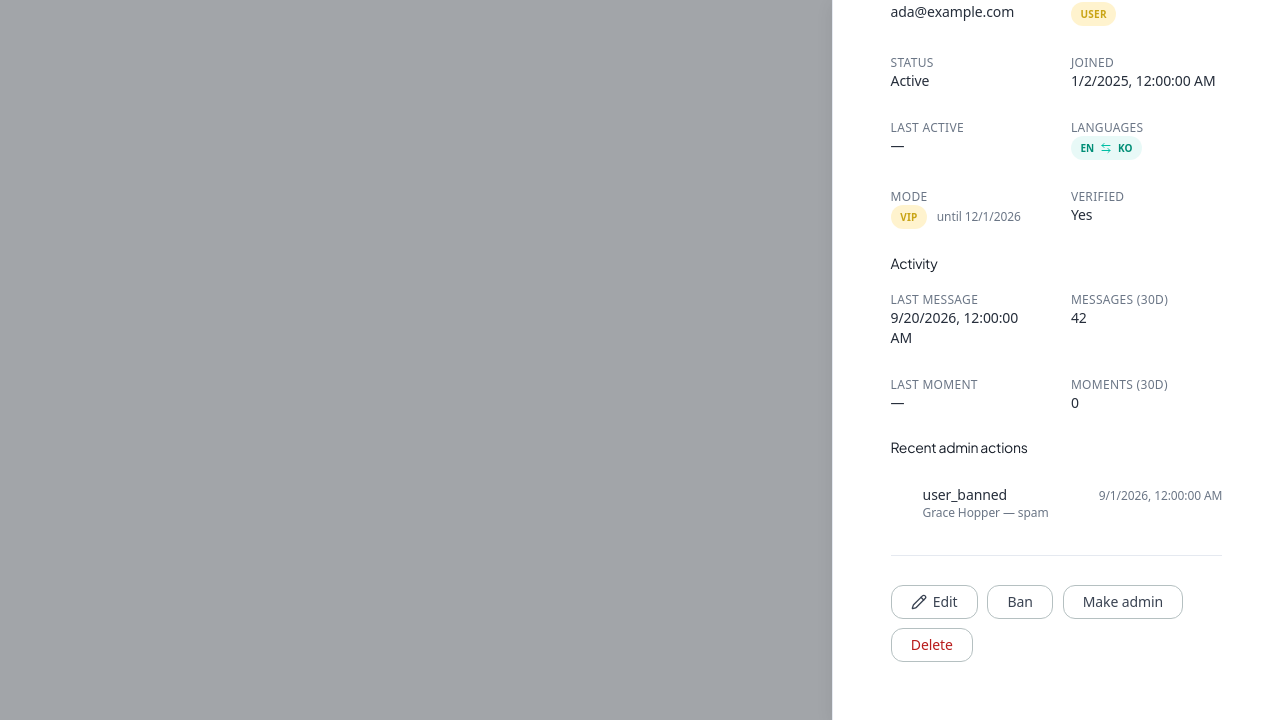
shows a failed mutation inside the dialog and keeps it open
(page scrolled)
Click the button with test id "drawer-role". click: (1123, 602)
box: [1062,585,1183,619]
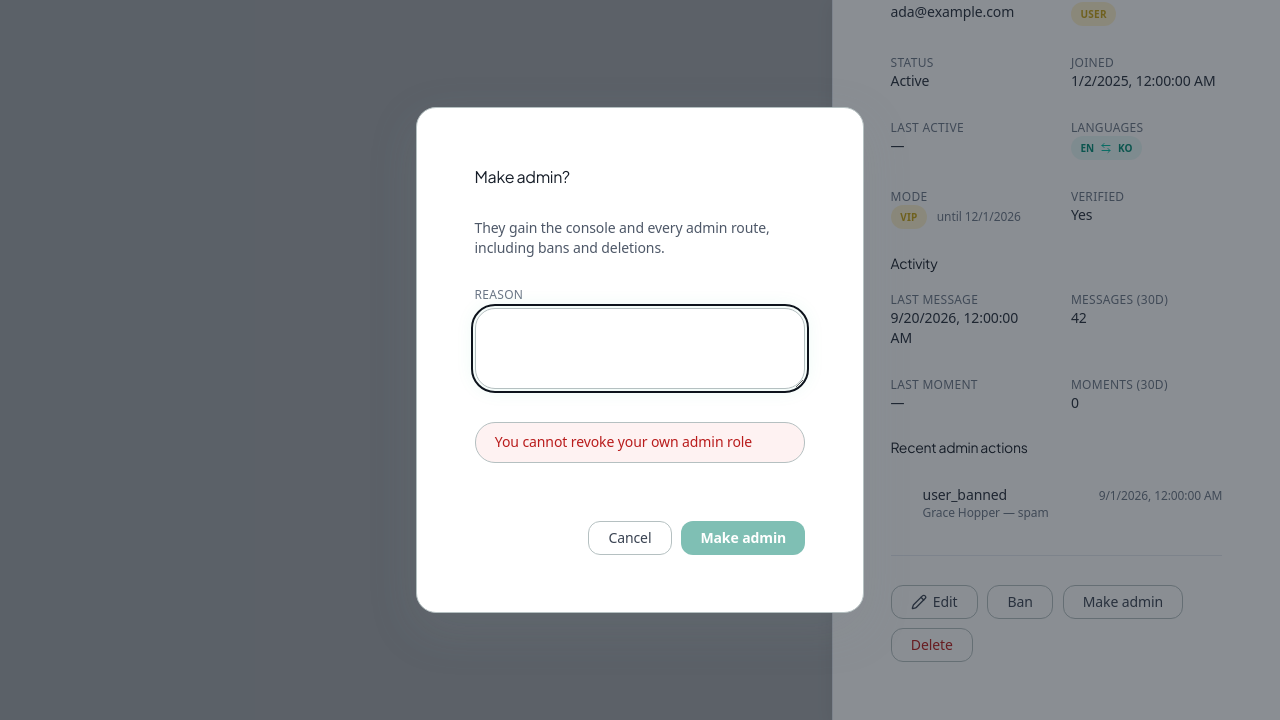
Check: the message with test id "confirm-dialog-error" reads "You cannot revoke your own admin role", box [495,432,752,451]
Check: the button with test id "confirm-dialog-confirm" is shown, box [681,521,805,555]
